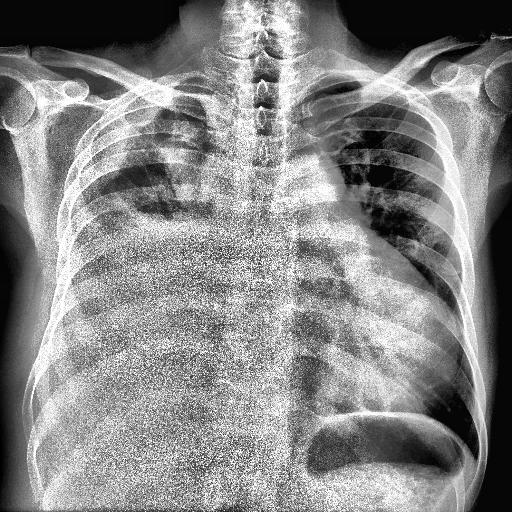10- Pleural effusion: (26, 84, 239, 420), (35, 82, 224, 406), (76, 66, 250, 408)
4- Consolidation: (115, 112, 214, 216)
7- Lung Opacity: (111, 104, 210, 216), (115, 98, 205, 217), (115, 112, 214, 216)
